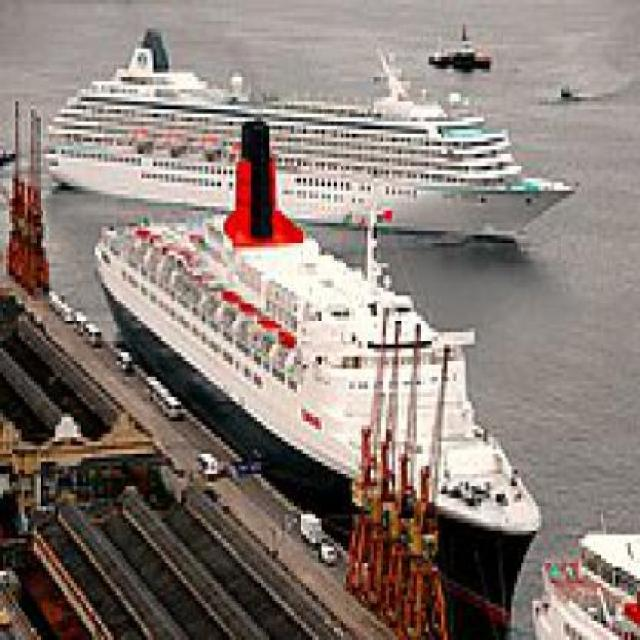cruise: (87, 122, 553, 605), (31, 17, 583, 253)
